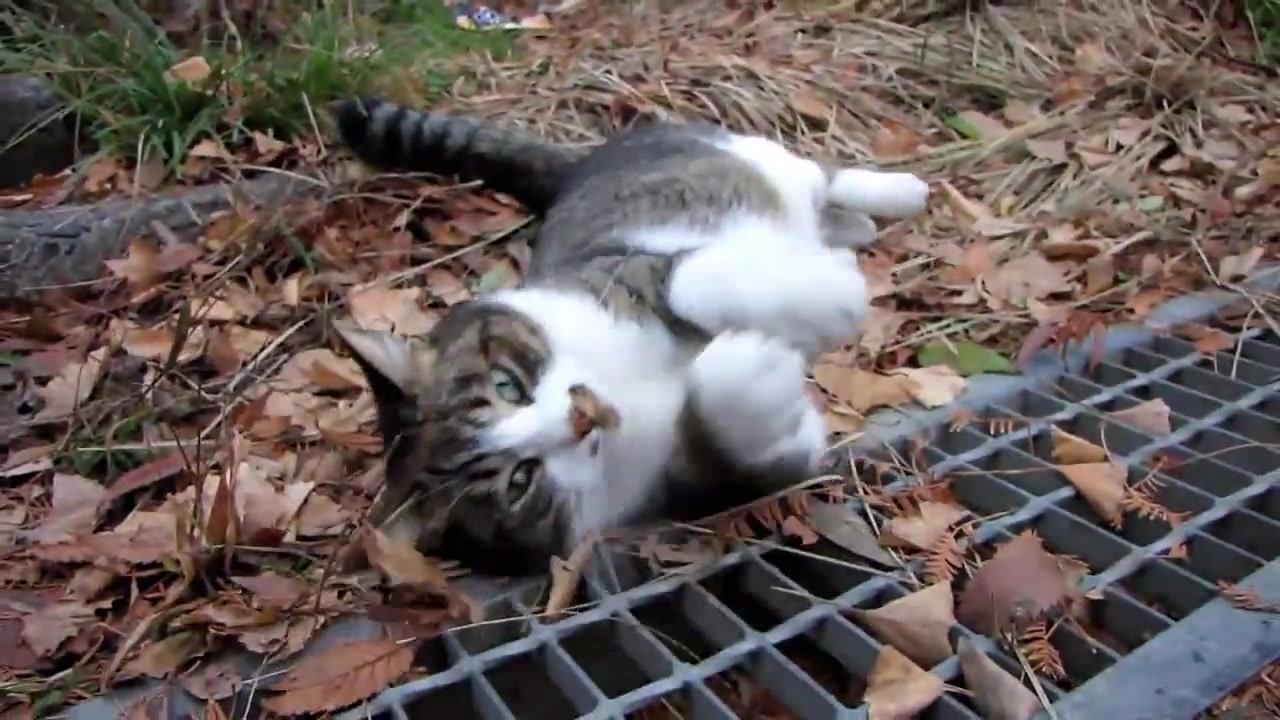cat: (332, 98, 939, 570)
